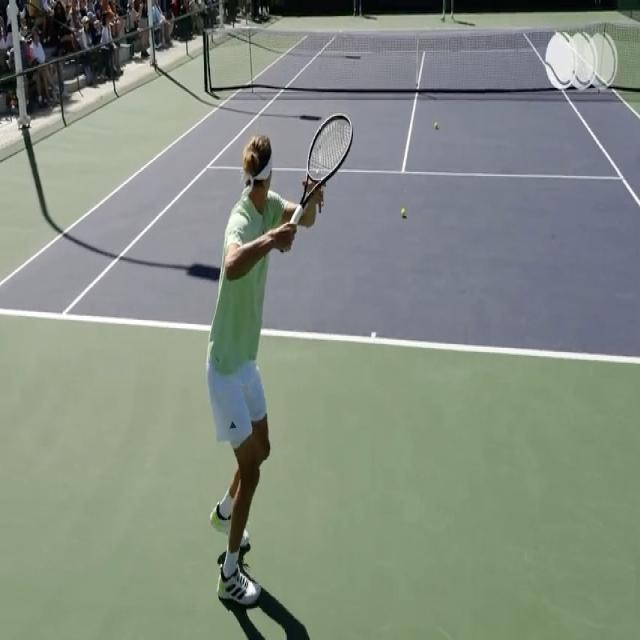forehand-ready: (209, 100, 354, 616)
